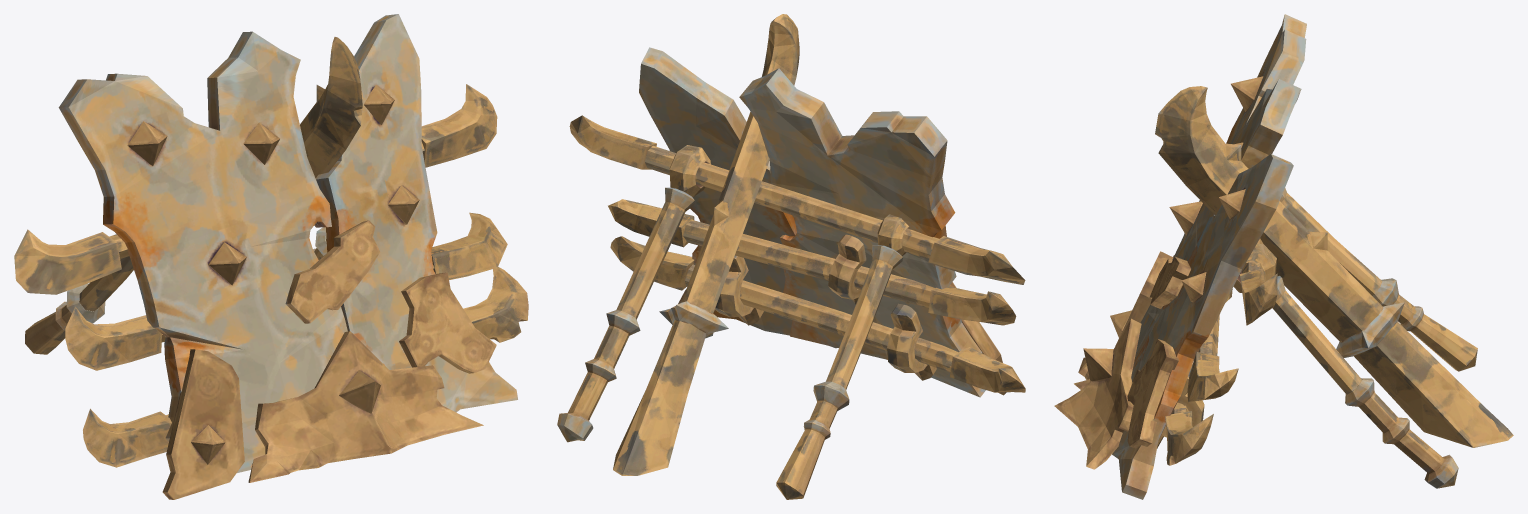
File: Barricade_C.fbx
3 views of the same model, side by side, from view 1: azimuth 30°, elevation 25°; view 2: azimuth 150°, elevation 25°; view 3: azimuth 270°, elevation 25° (orthographic). The views are drawn at different scales.
Parts seen in each view (by area): view 1: Dn_HL_Barricade_C.mo; view 2: Dn_HL_Barricade_C.mo; view 3: Dn_HL_Barricade_C.mo.
Part boxes in pixels (x1,y1,x2,y2): Dn_HL_Barricade_C.mo: (14, 14, 528, 499); Dn_HL_Barricade_C.mo: (557, 14, 1025, 499); Dn_HL_Barricade_C.mo: (1054, 14, 1513, 499).
Bounding box in the file's own units: 443 × 335 × 387.
1 material, 1 textured.
